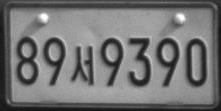0: (184, 37, 208, 87)
3: (128, 37, 151, 86)
8: (15, 35, 39, 85)
9: (99, 36, 124, 86), (156, 36, 180, 85), (43, 36, 66, 85)
서: (70, 45, 94, 85)
